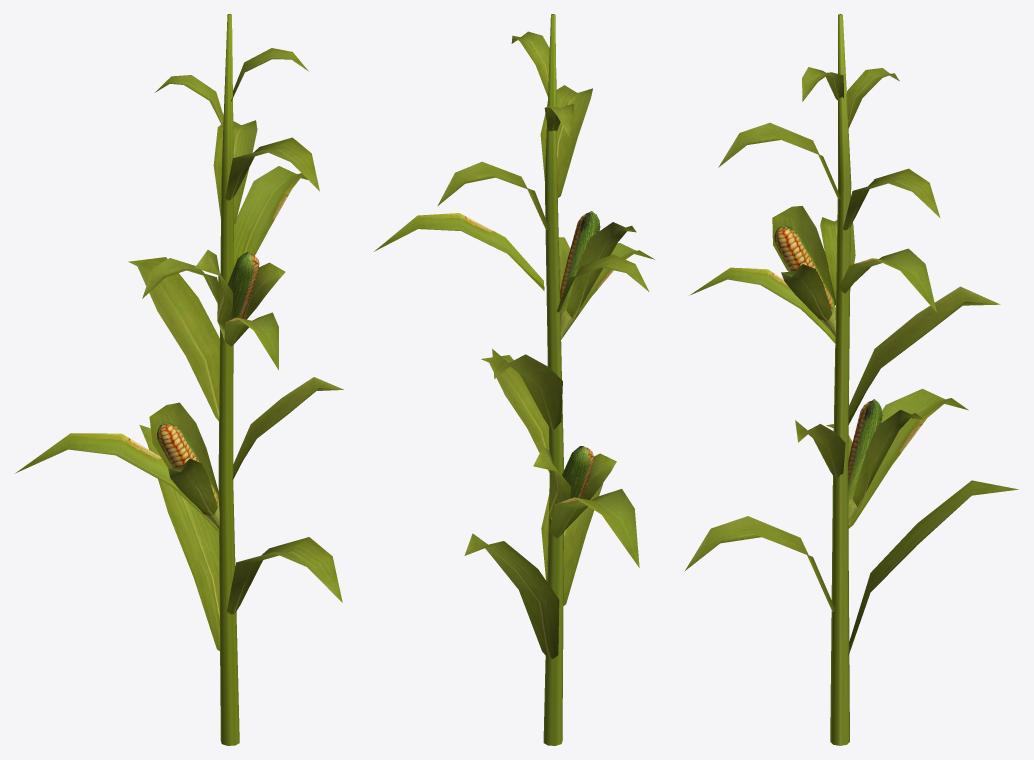
Rendered from Corn_Plant.fbx.
The picture shows the model from 3 angles, left to right: view 1: azimuth 30°, elevation 25°; view 2: azimuth 150°, elevation 25°; view 3: azimuth 270°, elevation 25°; orthographic projection.
Parts seen in each view (by area): view 1: Plant, Corns; view 2: Plant, Corns; view 3: Plant, Corns.
Boxes of the visible parts, x1=… form: Plant: x1=15, y1=14, x2=343, y2=745; Corns: x1=149, y1=250, x2=285, y2=530; Plant: x1=374, y1=14, x2=654, y2=745; Corns: x1=533, y1=211, x2=636, y2=519; Plant: x1=684, y1=14, x2=1018, y2=745; Corns: x1=772, y1=206, x2=923, y2=523.
Size of the model in its own units: 181 by 445 by 186.
